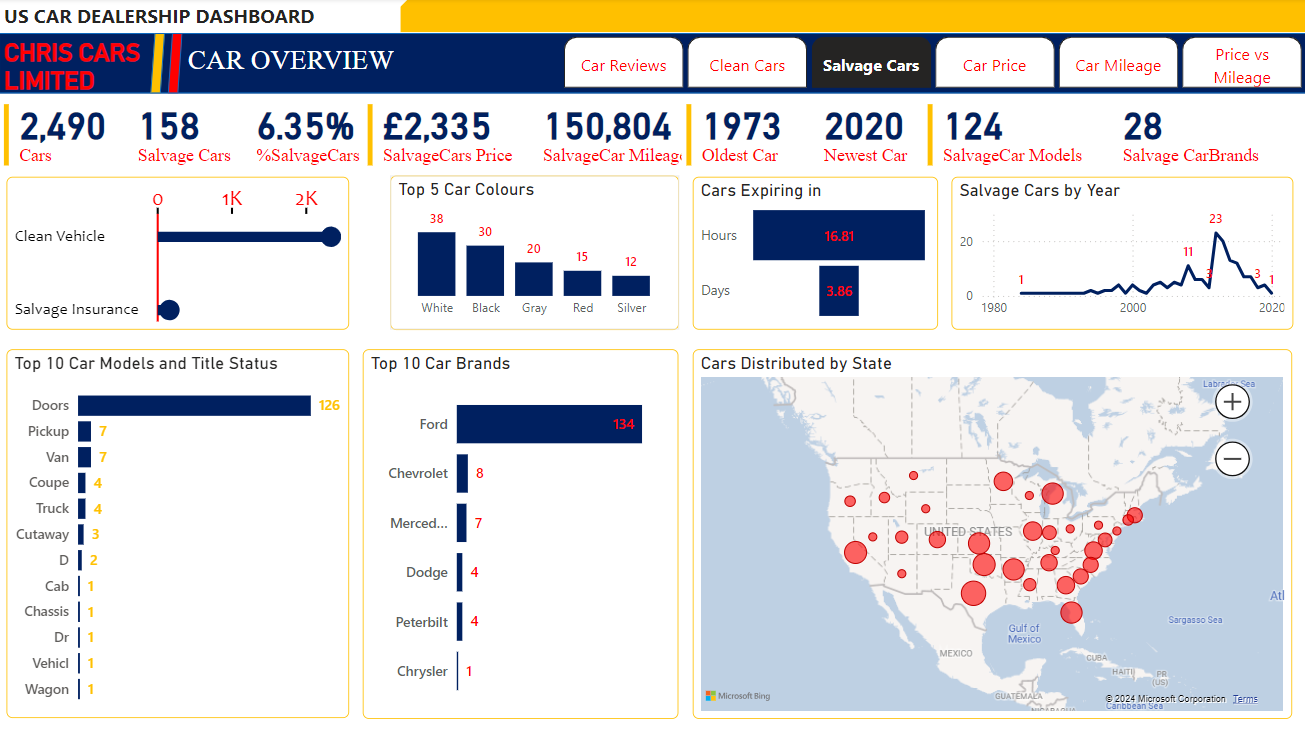

The page's visual inventory and layout, read from the dashboard file:
{"tool":"powerbi","page":{"name":"Salvage Cars","canvas":[1280,720],"ordinal":2},"visuals":[{"type":"shape","box":[148.4,33.8,14.5,59.1],"z":0,"group":"g1"},{"type":"shape","box":[392.1,0,887.9,33.8],"z":0},{"type":"shape","box":[165.3,33.8,14.5,59.1],"z":1000,"group":"g1"},{"type":"shape","box":[0,33.8,1280,59.1],"z":1000},{"type":"textbox","box":[0,0,400.5,45.8],"z":2000},{"type":"textbox","box":[179.8,39.8,220.8,53.1],"z":3000},{"type":"multiRowCard","fields":{"Values":["My Measures.Cars","My Measures.Salvage Cars","My Measures.%SalvageCars"]},"box":[0,98.9,372.8,76],"z":4000},{"type":"multiRowCard","fields":{"Values":["My Measures.SalvageCars Price","My Measures.SalvageCar Mileage"]},"box":[355.9,98.9,337.8,76],"z":5000},{"type":"multiRowCard","fields":{"Values":["My Measures.Oldest CleanCar","My Measures.Newest CleanCar"]},"box":[667.2,98.9,264.2,76],"z":6000},{"type":"multiRowCard","fields":{"Values":["My Measures.SalvageCar Models","My Measures.Salvage CarBrands"]},"box":[903.6,98.9,376.4,76],"z":7000},{"type":"dotChart6B967E5FFF8E4679BF7C4102B3F6171F","fields":{"category":["USA_Cars_Facts.Title_status"],"value":["My Measures.Cars"]},"box":[7.2,174.9,335.4,149.6],"z":8000},{"type":"barChart","title":"Top 10 Car Models and Title Status","fields":{"Category":["Car Model.Model"],"Y":["My Measures.Salvage Cars"]},"box":[7.2,343.8,335.4,360.7],"z":9000},{"type":"clusteredBarChart","title":"Top 10 Car Brands","fields":{"Category":["Car Brands.Brand"],"Y":["My Measures.Salvage Cars"]},"box":[355.9,343.8,308.8,361.9],"z":10000},{"type":"clusteredColumnChart","title":"Top 5 Car Colours","fields":{"Category":["Car Color.Color"],"Y":["My Measures.Salvage Cars"]},"box":[382.4,173.7,282.3,150.8],"z":11000},{"type":"map","title":"Cars Distributed by State","fields":{"Category":["Car States.State"],"Size":["My Measures.Salvage Cars"]},"box":[679.2,343.8,586.3,361.9],"z":12000},{"type":"funnel","title":"Cars Expiring in","fields":{"Category":["USA_Cars_Facts.Expiring in"],"Y":["My Measures.SalvageCar Expiration"]},"box":[679.2,174.9,240.1,149.6],"z":13000},{"type":"lineChart","fields":{"Category":["USA_Cars_Facts.Year"],"Y":["My Measures.Salvage Cars"]},"box":[931.4,174.9,334.2,149.6],"z":14000},{"type":"textbox","box":[0,33.8,170.1,73.6],"z":15000},{"type":"group","id":"g1","title":"Group 1","box":[148.4,33.8,31.4,59.1],"z":16000},{"type":"pageNavigator","box":[552.4,37.9,727.6,50.1],"z":17000}]}

Visuals, with their boxes in screenshot pixels (x1, y1, x2, y2), scaled from the page's 1280x720 canvas onto the 1305x732 screenshot:
shape: detection(151, 34, 166, 94)
shape: detection(400, 0, 1304, 34)
shape: detection(169, 34, 183, 94)
shape: detection(0, 34, 1304, 94)
textbox: detection(0, 0, 408, 47)
textbox: detection(183, 40, 408, 94)
multiRowCard - My Measures.Cars x My Measures.Salvage Cars: detection(0, 101, 380, 178)
multiRowCard - My Measures.SalvageCars Price x My Measures.SalvageCar Mileage: detection(363, 101, 707, 178)
multiRowCard - My Measures.Oldest CleanCar x My Measures.Newest CleanCar: detection(680, 101, 950, 178)
multiRowCard - My Measures.SalvageCar Models x My Measures.Salvage CarBrands: detection(921, 101, 1304, 178)
dotChart6B967E5FFF8E4679BF7C4102B3F6171F - USA_Cars_Facts.Title_status x My Measures.Cars: detection(7, 178, 349, 330)
"Top 10 Car Models and Title Status" barChart: detection(7, 350, 349, 716)
"Top 10 Car Brands" clusteredBarChart: detection(363, 350, 678, 717)
"Top 5 Car Colours" clusteredColumnChart: detection(390, 177, 678, 330)
"Cars Distributed by State" map: detection(692, 350, 1290, 717)
"Cars Expiring in" funnel: detection(692, 178, 937, 330)
lineChart - USA_Cars_Facts.Year x My Measures.Salvage Cars: detection(950, 178, 1290, 330)
textbox: detection(0, 34, 173, 109)
"Group 1" group: detection(151, 34, 183, 94)
pageNavigator: detection(563, 39, 1304, 89)
